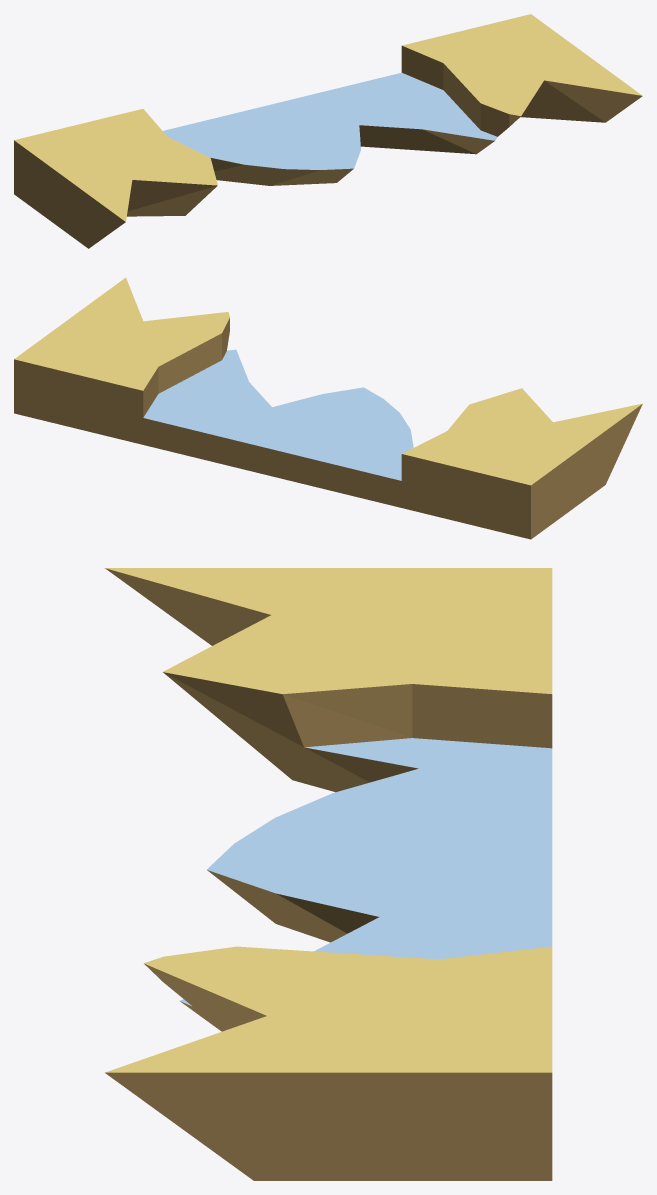
File: Terrain_Modular_Tiles_Sand_Dirt_Cliff_Edge_River_Outer_02.fbx
The picture shows the model from 3 angles, top to bottom: view 1: azimuth 30°, elevation 25°; view 2: azimuth 150°, elevation 25°; view 3: azimuth 270°, elevation 25°; orthographic projection. The views are drawn at different scales.
Visible parts, largest first — view 1: Terrain_Modular_Tiles_Sand_Dirt_Cliff_Edge_River_Outer_02; view 2: Terrain_Modular_Tiles_Sand_Dirt_Cliff_Edge_River_Outer_02; view 3: Terrain_Modular_Tiles_Sand_Dirt_Cliff_Edge_River_Outer_02.
Boxes of the visible parts, x1,y1,x2,y2 form: Terrain_Modular_Tiles_Sand_Dirt_Cliff_Edge_River_Outer_02: [14, 14, 642, 248]; Terrain_Modular_Tiles_Sand_Dirt_Cliff_Edge_River_Outer_02: [14, 277, 642, 539]; Terrain_Modular_Tiles_Sand_Dirt_Cliff_Edge_River_Outer_02: [105, 568, 552, 1180].
Size of the model in its own units: 118 by 11.81 by 44.29.
